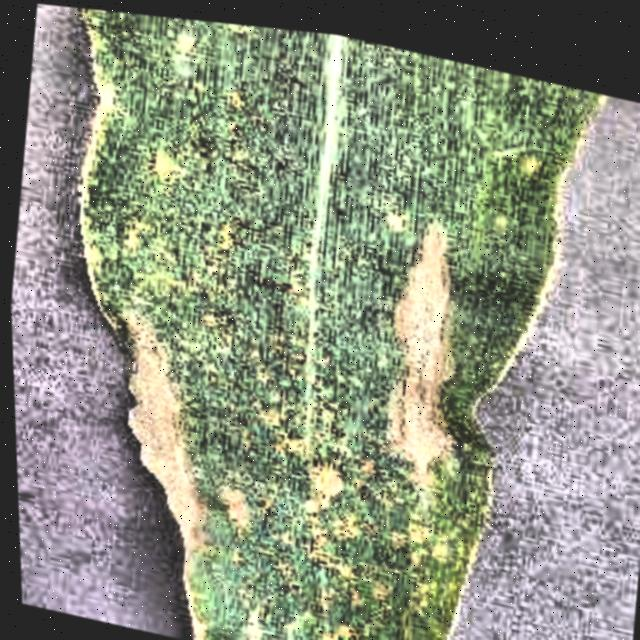blight: (30, 3, 571, 640)
